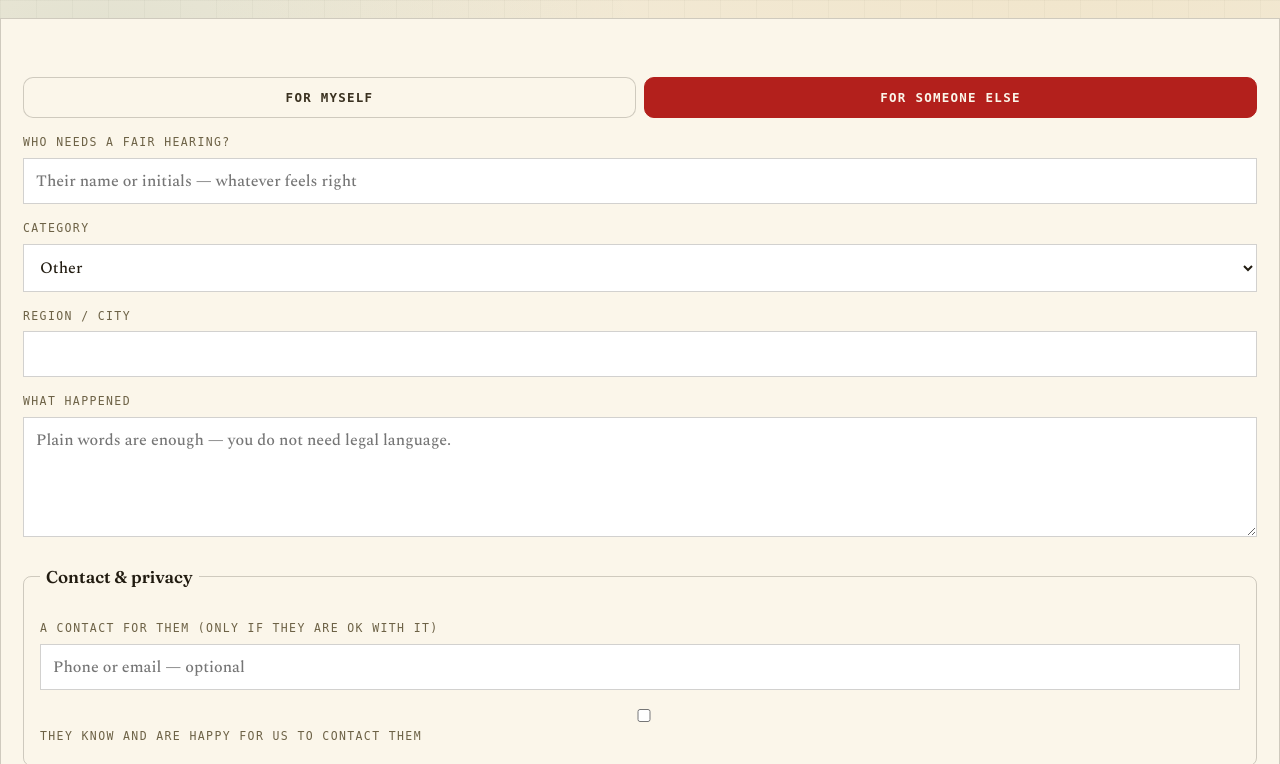
Test case: IntakeForm (referral mode) › surfaces a server-side error
The image size is (1280, 764).
Step 1. Type "Kiran" into the field labelled "Who needs a fair hearing?" → (640, 181), box [23,158,1257,204]
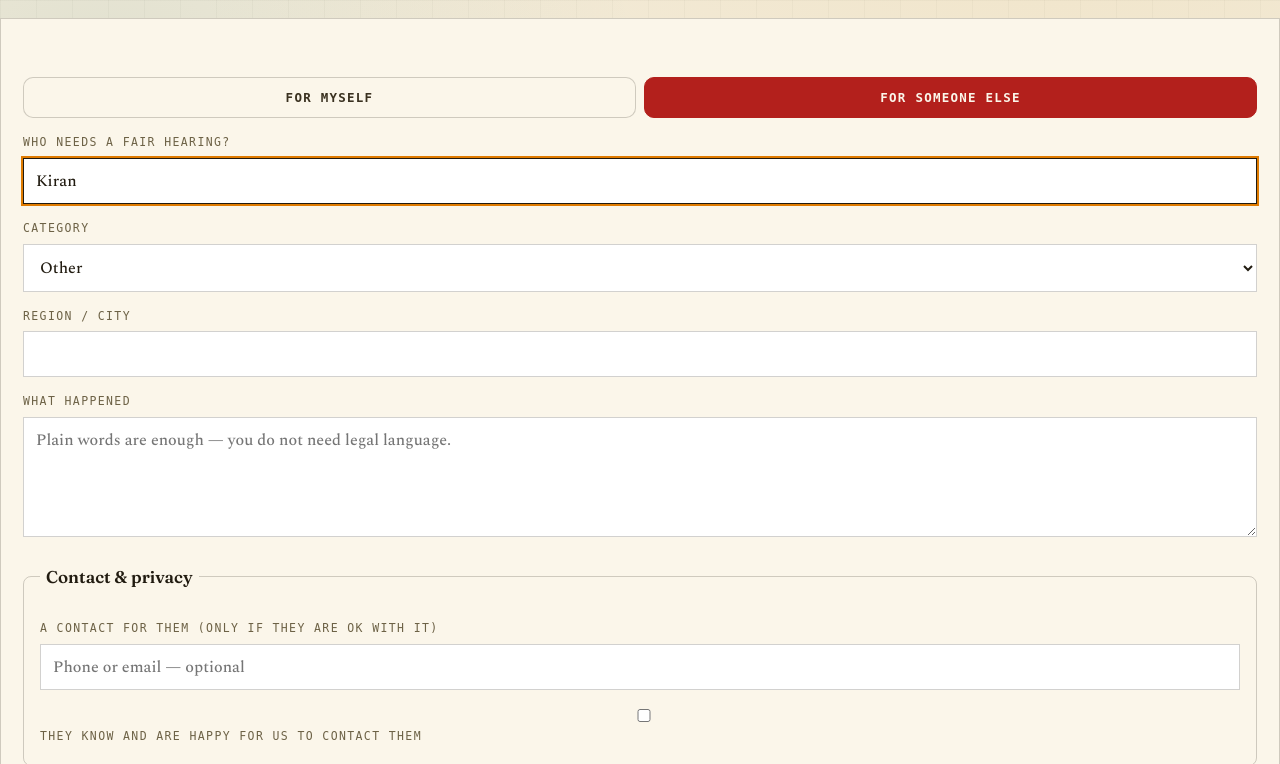
Step 2. Type "Something." into the text box labelled "What happened" → (640, 477), box [23,417,1257,537]
(page scrolled)
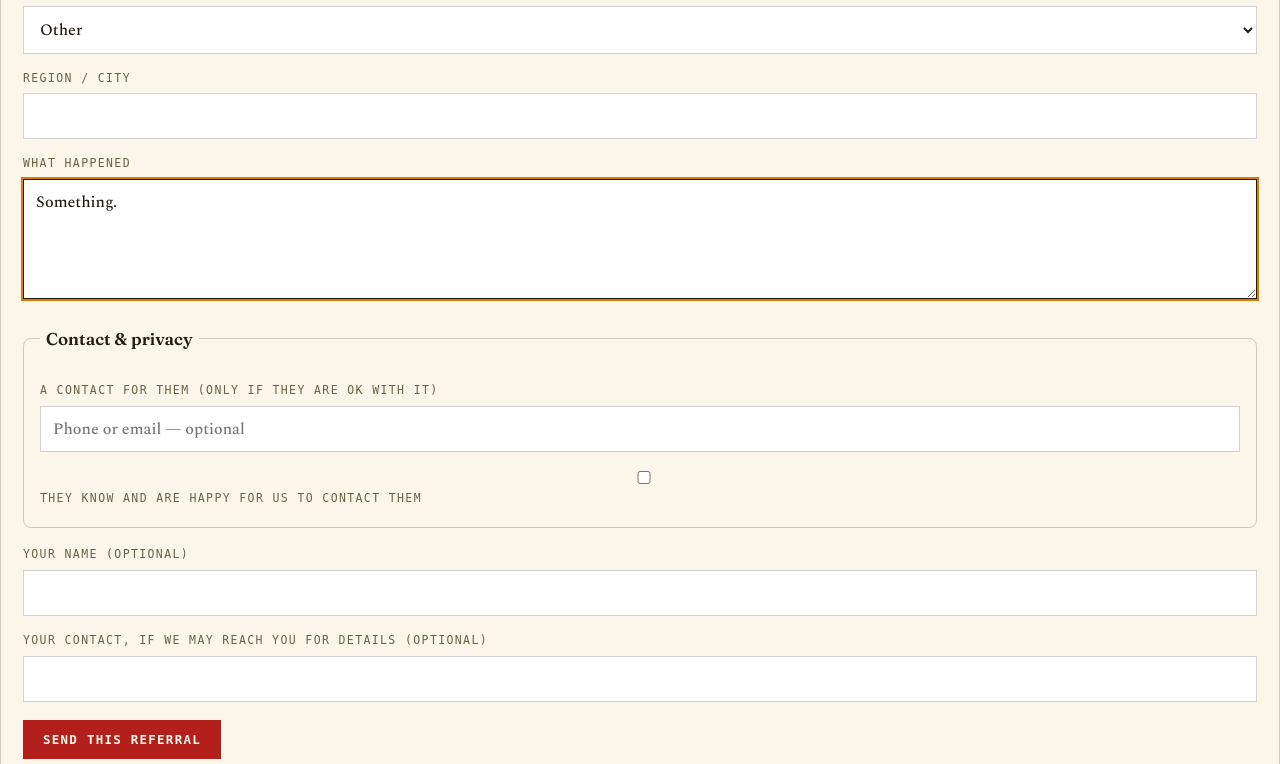
Step 3. Click the button "Send this referral" → (122, 740), box [23,720,221,759]
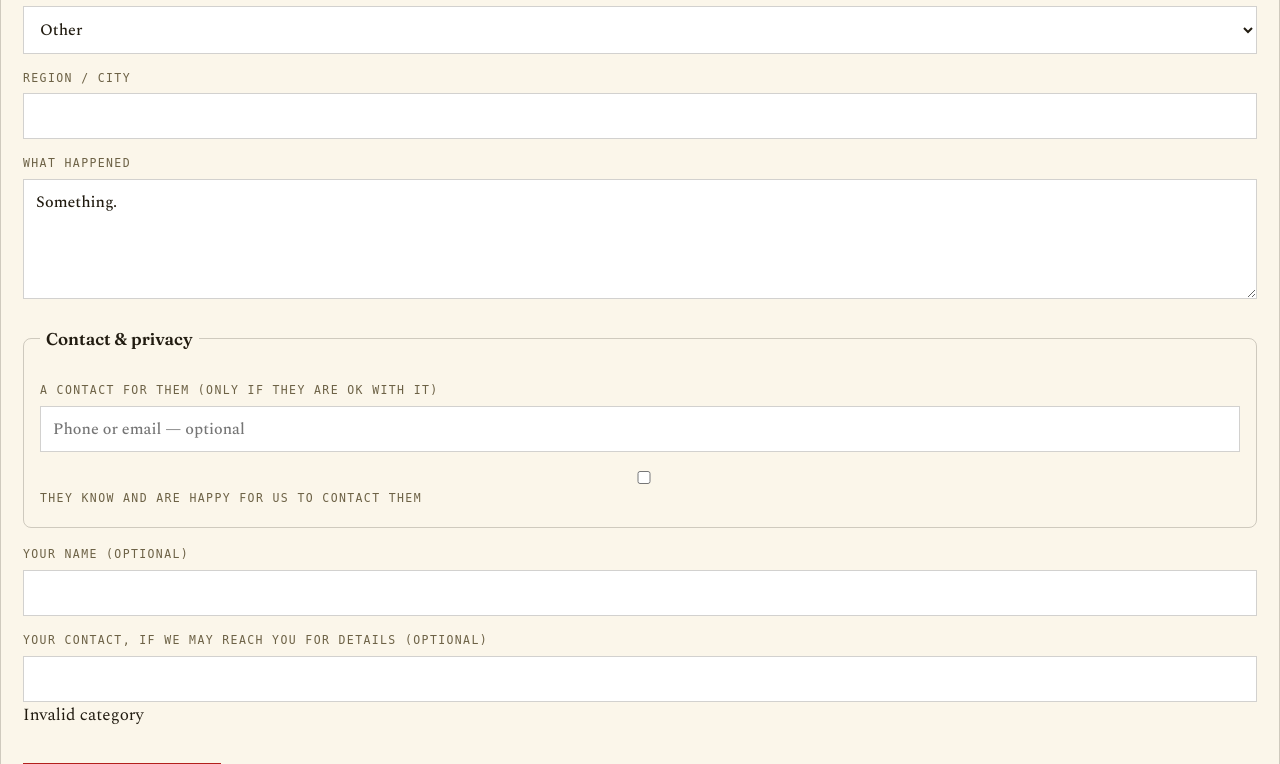
Check: the text "Invalid category" is shown, box [23,702,144,728]
